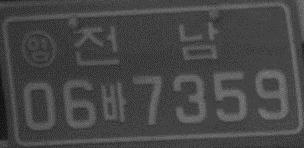0: (22, 80, 57, 131)
3: (171, 73, 207, 124)
5: (212, 71, 249, 124)
6: (61, 78, 97, 129)
7: (130, 74, 163, 125)
9: (253, 69, 290, 121)
바: (100, 80, 127, 122)
영: (20, 29, 57, 68)
전남_D: (72, 21, 218, 67)
